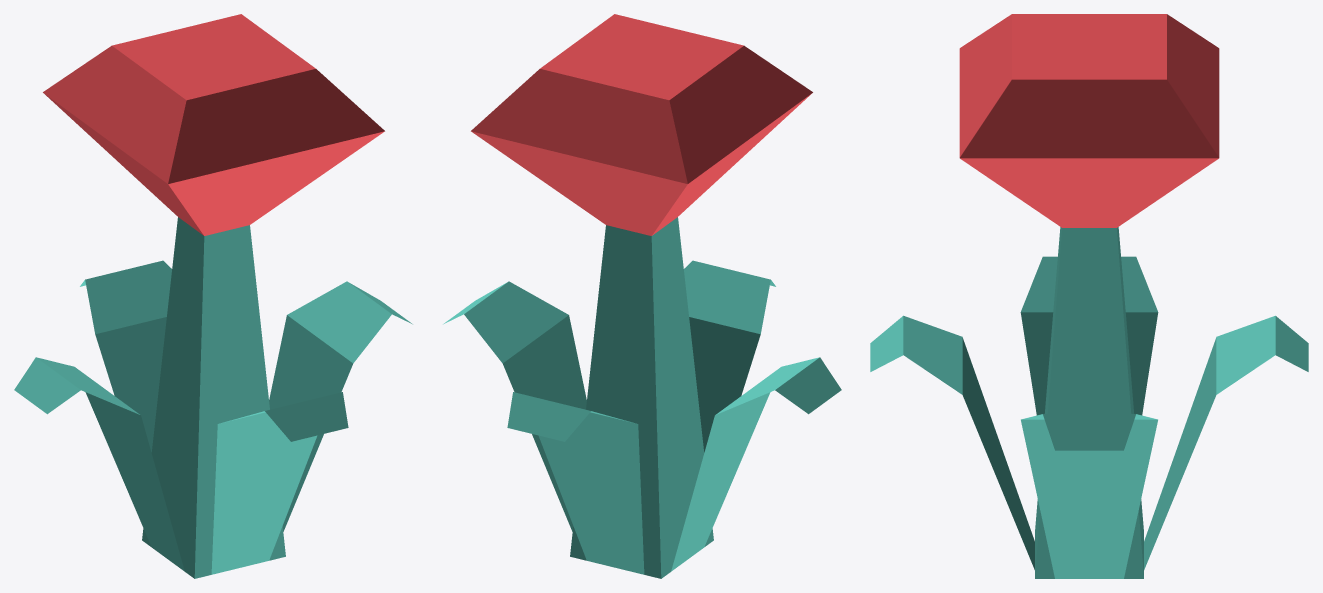
Rendered from flower_red2.obj.
3 renders of one model, left to right at view 1: azimuth 30°, elevation 25°; view 2: azimuth 150°, elevation 25°; view 3: azimuth 270°, elevation 25°, orthographic. The views are drawn at different scales.
Visible parts, largest first — view 1: flower_red2; view 2: flower_red2; view 3: flower_red2.
Part boxes in pixels (box(x1,y1,x2,y2)): flower_red2: box(14, 14, 412, 578); flower_red2: box(443, 14, 841, 578); flower_red2: box(870, 14, 1308, 578).
Size of the model in its own units: 1.71 by 2.2 by 1.71.
